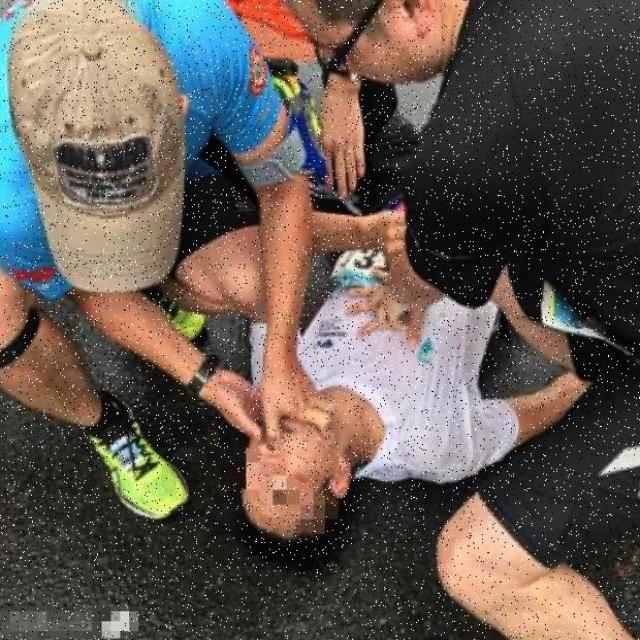fall: (245, 262, 517, 558)
